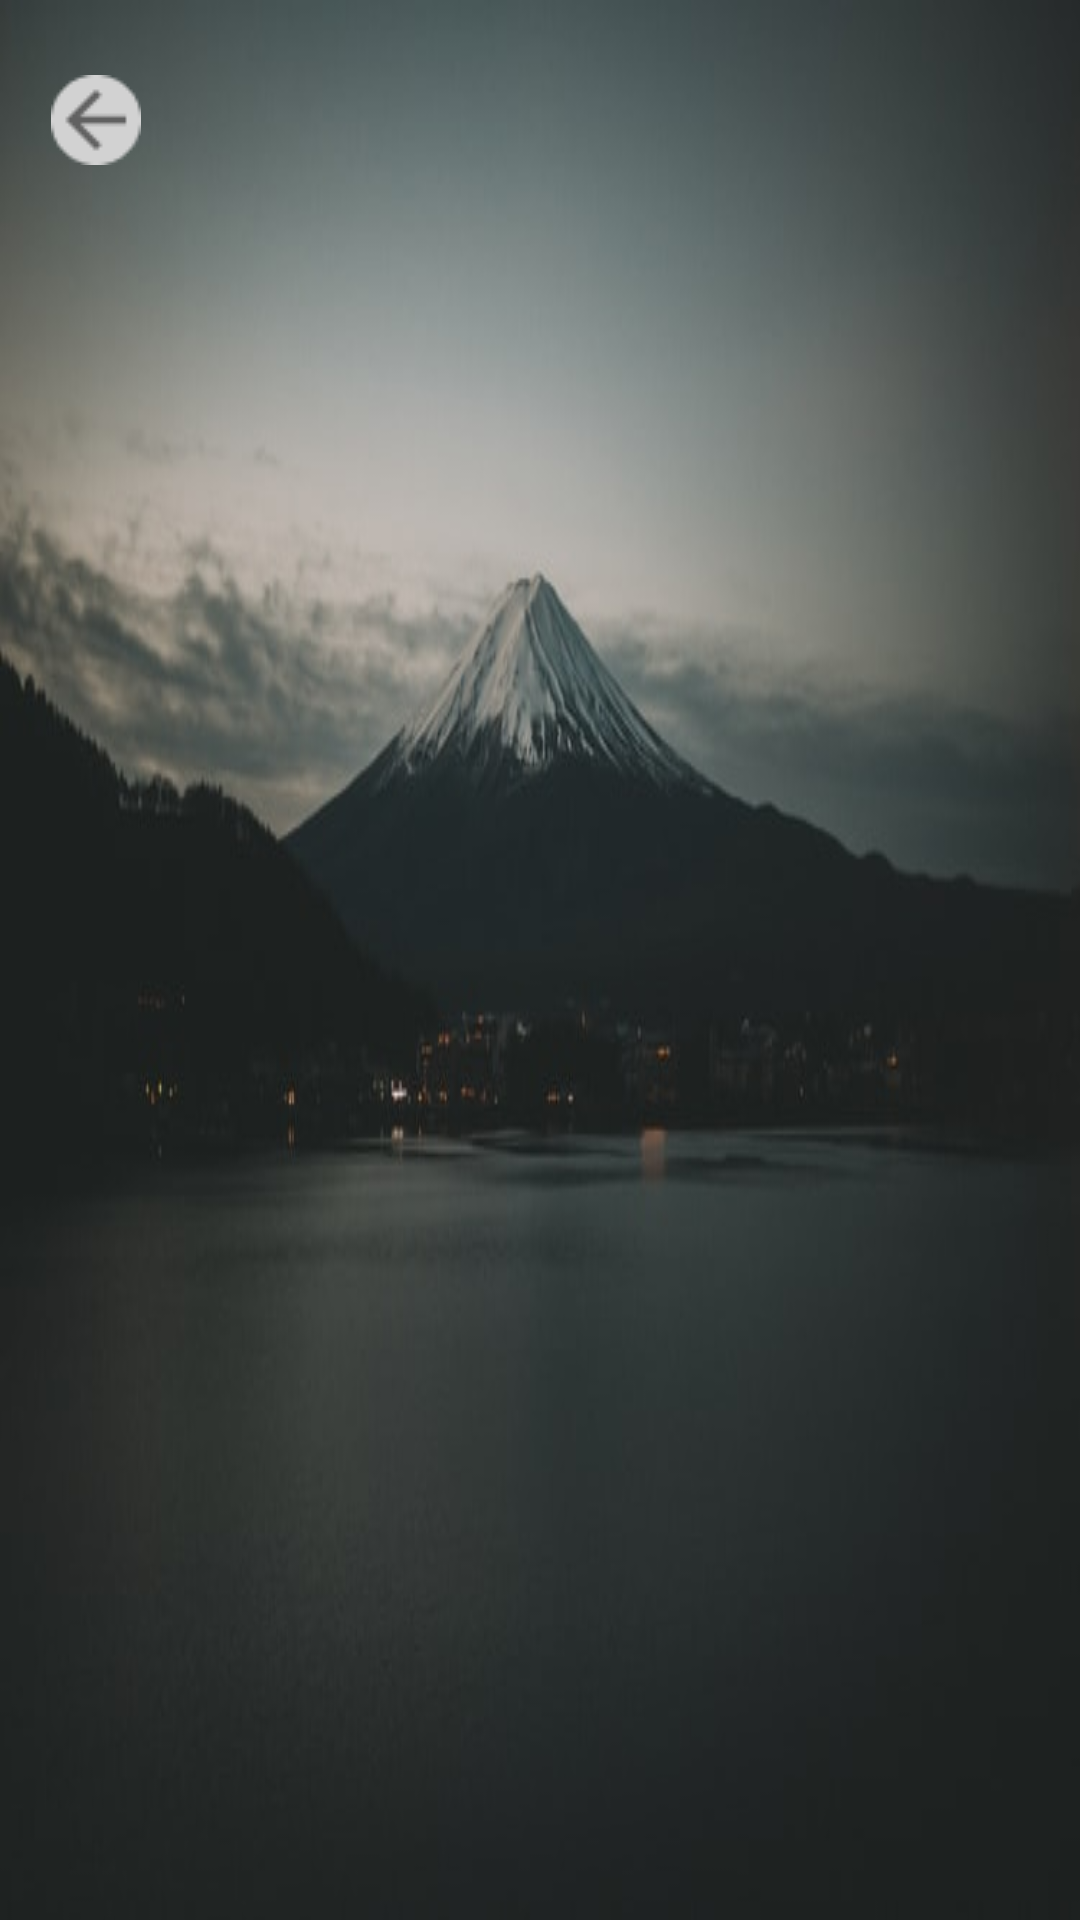

Icon bounding boxes for this 1080*1920 phone screenshot, format region(x1, y1, x2, y2):
back: region(51, 75, 141, 165)
